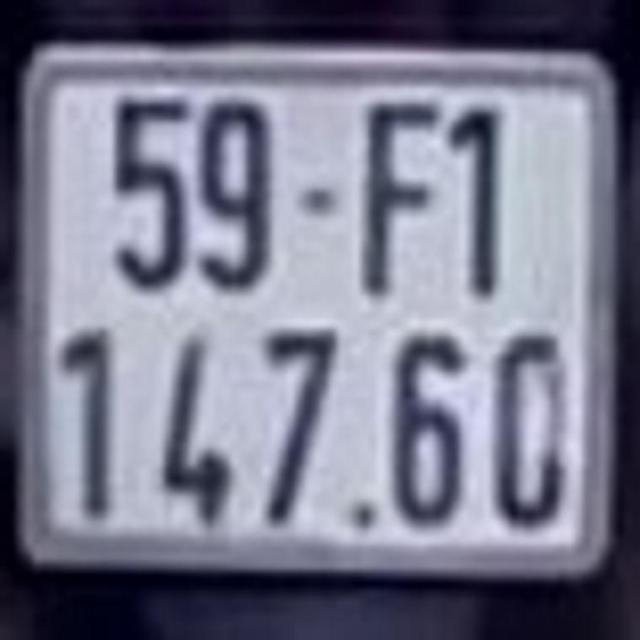0: (491, 303, 576, 538)
1: (442, 87, 533, 314), (41, 316, 130, 526)
4: (155, 314, 240, 532)
5: (103, 75, 192, 311)
6: (381, 311, 471, 548)
7: (253, 306, 343, 537)
9: (192, 80, 279, 313)
F: (352, 81, 443, 305)
